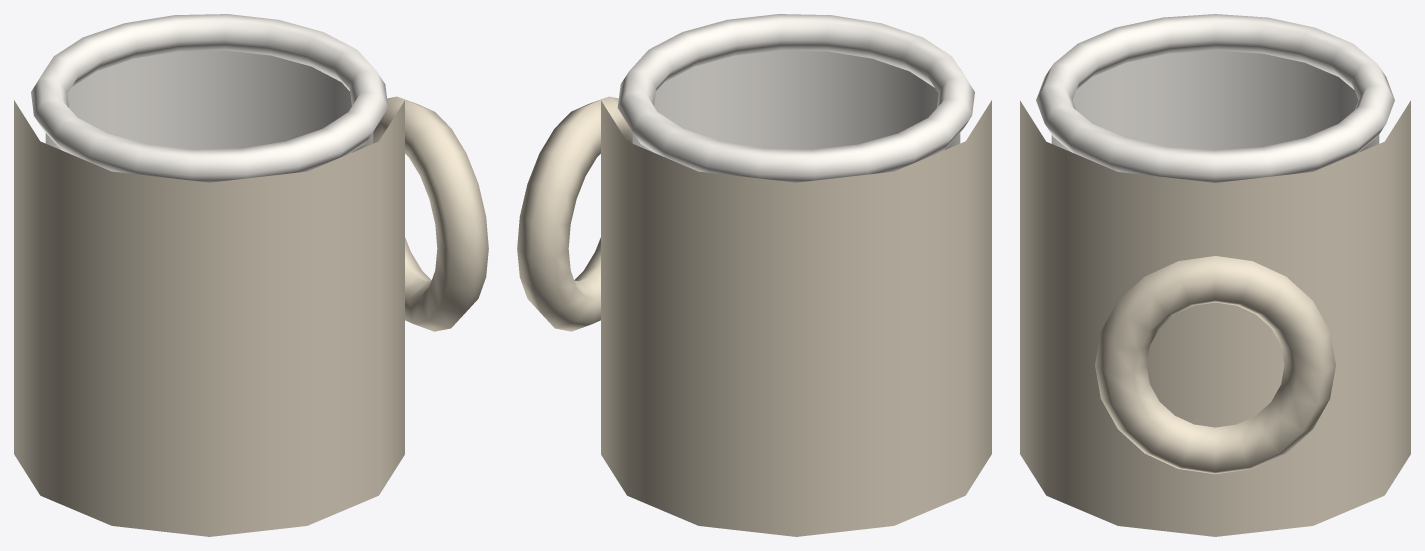
The model's file is mug.glb.
The picture shows the model from 3 angles, left to right: view 1: azimuth 30°, elevation 25°; view 2: azimuth 150°, elevation 25°; view 3: azimuth 270°, elevation 25°; orthographic projection.
Visible parts, largest first — view 1: mug.material0, mug.material1; view 2: mug.material0, mug.material1; view 3: mug.material0, mug.material1.
Boxes of the visible parts, x1,y1,x2,y2 form: mug.material0: [14, 96, 488, 536]; mug.material1: [31, 14, 388, 182]; mug.material0: [517, 96, 991, 536]; mug.material1: [617, 14, 974, 182]; mug.material0: [1020, 100, 1410, 536]; mug.material1: [1036, 14, 1394, 182].
Bounding box in the file's own units: 0.2739 × 0.2445 × 0.235.
